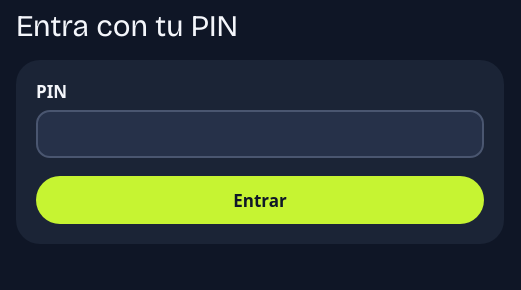
LoginForm negative › nothing shows a message and does not ask the server
Click the button "Entrar" at (260, 200), box x1=36 y1=176 x2=484 y2=224
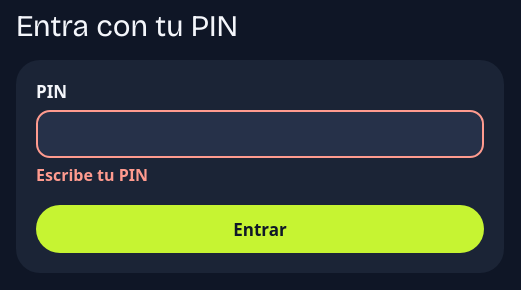
Expected: the message reads "Escribe tu PIN", x1=36 y1=164 x2=148 y2=186
